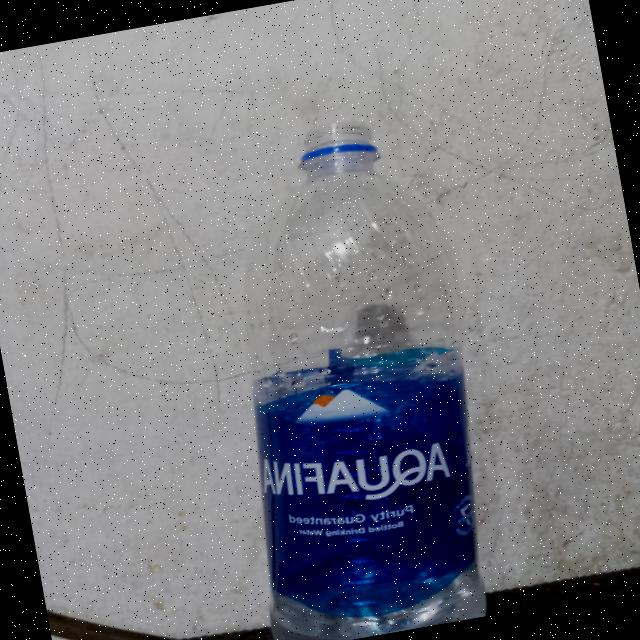bottle: (178, 95, 524, 640)
label: (230, 334, 510, 632)
